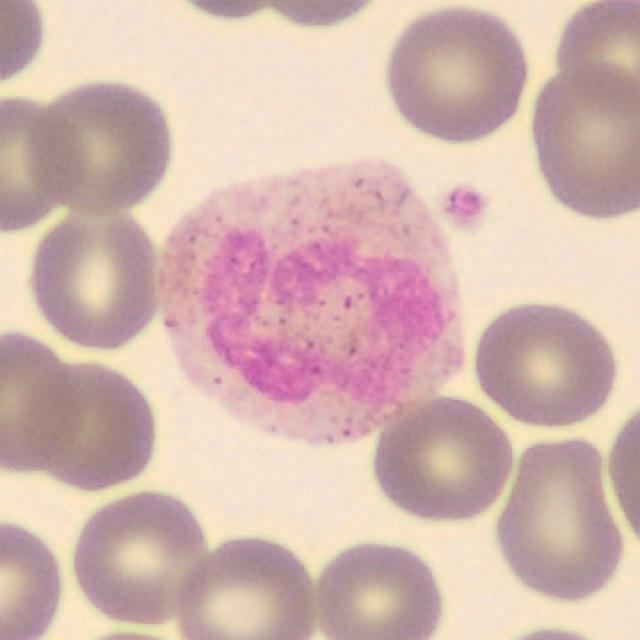Neutrofilo segmentado: (158, 160, 466, 446)
